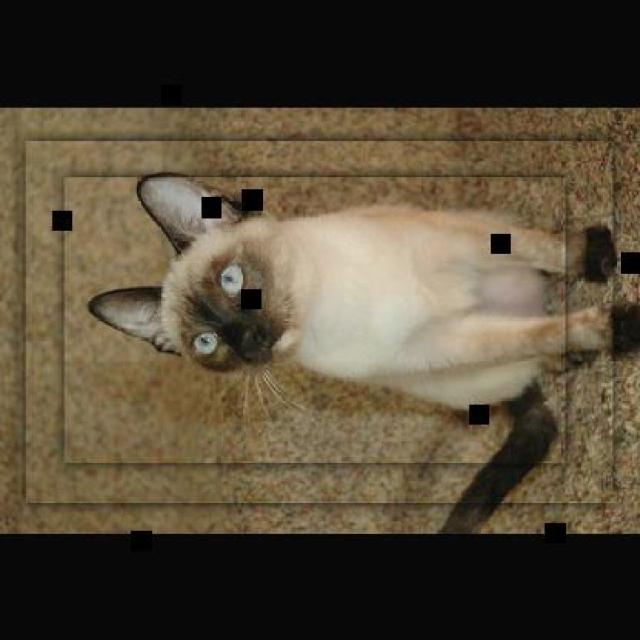unauthorized: (86, 170, 637, 428)
